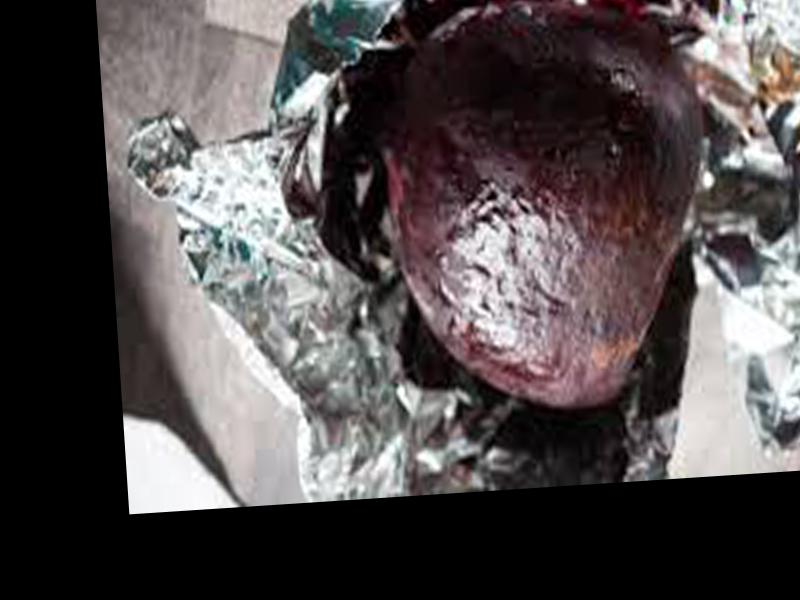Beet: (370, 6, 721, 422)
